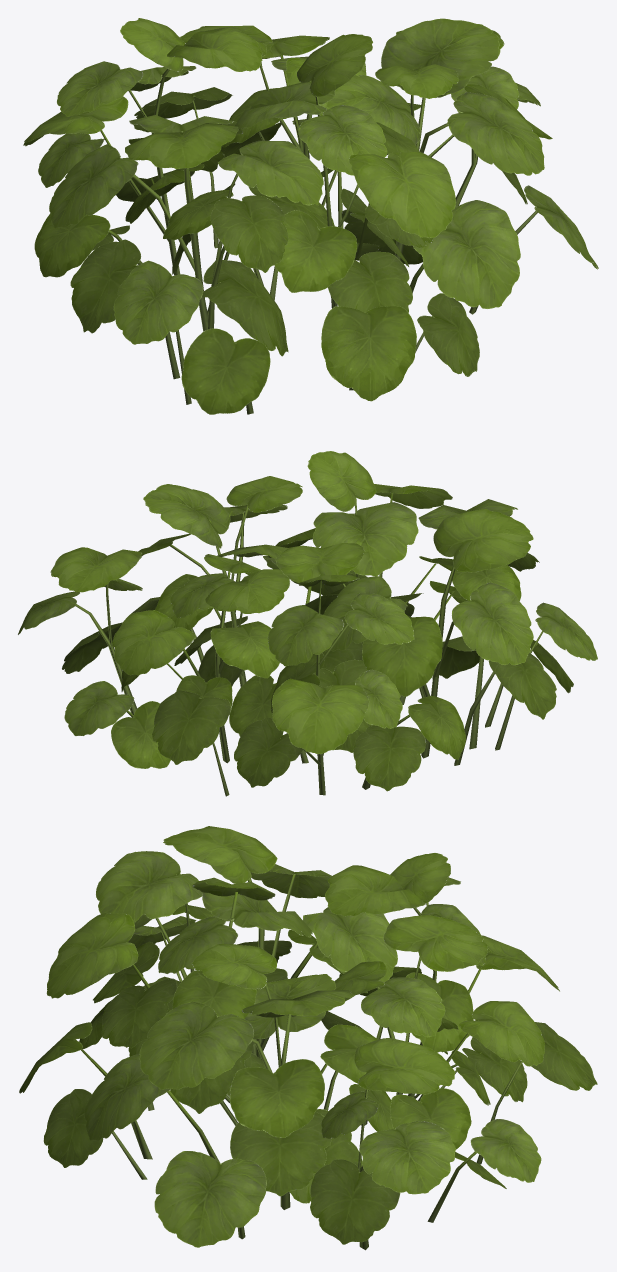
File: Area_Xm_Grass_CWSM_Fulu_01.fbx
3 renders of one model, top to bottom at view 1: azimuth 30°, elevation 25°; view 2: azimuth 150°, elevation 25°; view 3: azimuth 270°, elevation 25°, orthographic. The views are drawn at different scales.
Visible parts, largest first — view 1: Area_Xm_Grass_CWSM_Fulu_01_Lod0; view 2: Area_Xm_Grass_CWSM_Fulu_01_Lod0; view 3: Area_Xm_Grass_CWSM_Fulu_01_Lod0.
Boxes of the visible parts, x1,y1,x2,y2 form: Area_Xm_Grass_CWSM_Fulu_01_Lod0: (23, 18, 598, 414); Area_Xm_Grass_CWSM_Fulu_01_Lod0: (18, 451, 597, 796); Area_Xm_Grass_CWSM_Fulu_01_Lod0: (19, 826, 597, 1250).
Bounding box in the file's own units: 2.91 × 1.56 × 2.78.
Materials: 1 (1 with a texture image).
